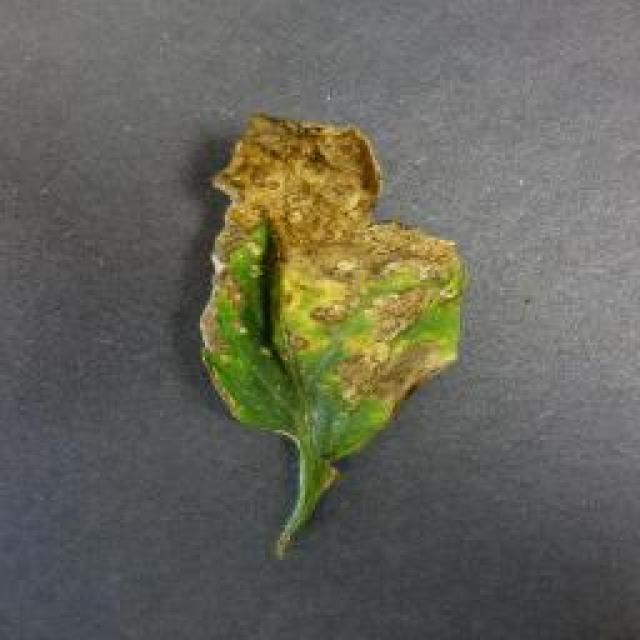Tom_Bacterial_spot: (196, 116, 462, 452)
